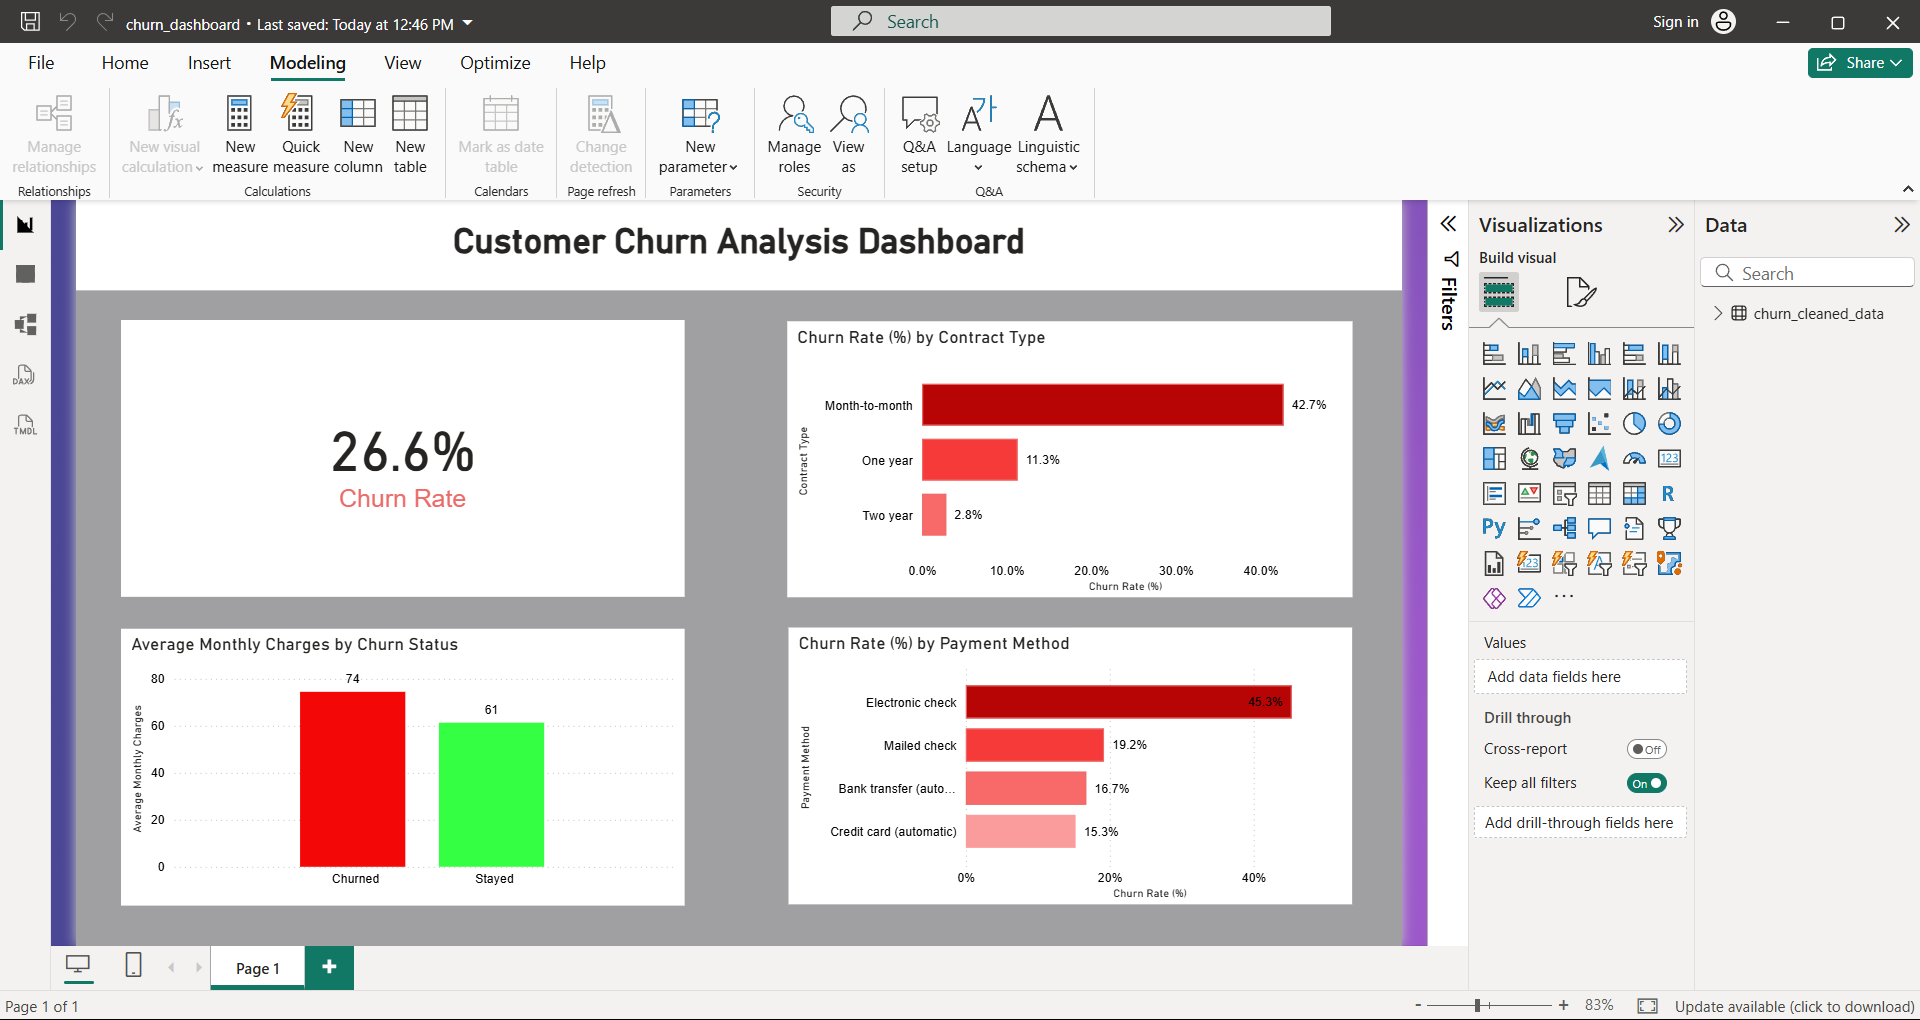

The dashboard page shown, as its layout file describes it:
{"tool":"powerbi","page":{"name":"Page 1","canvas":[1280,720],"ordinal":0},"visuals":[{"type":"card","fields":{"Values":["churn_cleaned_data.Churn Rate"]},"box":[43.1,115.7,544,267.1],"z":0},{"type":"clusteredBarChart","fields":{"Category":["churn_cleaned_data.Contract"],"Y":["Avg(churn_cleaned_data.Churn)"]},"box":[686.5,117,545.3,266.6],"z":1000},{"type":"clusteredBarChart","fields":{"Y":["Avg(churn_cleaned_data.Churn)"],"Category":["churn_cleaned_data.PaymentMethod"]},"box":[687.1,412.9,544.3,267.1],"z":2000},{"type":"clusteredColumnChart","title":"Average Monthly Charges by Churn Status","fields":{"Y":["Avg(churn_cleaned_data.MonthlyCharges)"],"Category":["churn_cleaned_data.Churn Status"]},"box":[42.9,414.3,544.3,267.1],"z":3000},{"type":"textbox","box":[0,0,1280,87.1],"z":4000}]}

Visuals, with their boxes on the page's 1280x720 design canvas (x1, y1, x2, y2). These are canvas units, not pixel positions in the 1920x1020 screenshot, which may show the page scaled, cropped or inside an application window:
card - churn_cleaned_data.Churn Rate: Rect(43, 116, 587, 383)
clusteredBarChart - churn_cleaned_data.Contract x Avg(churn_cleaned_data.Churn): Rect(686, 117, 1232, 384)
clusteredBarChart - Avg(churn_cleaned_data.Churn) x churn_cleaned_data.PaymentMethod: Rect(687, 413, 1231, 680)
"Average Monthly Charges by Churn Status" clusteredColumnChart: Rect(43, 414, 587, 681)
textbox: Rect(0, 0, 1280, 87)
